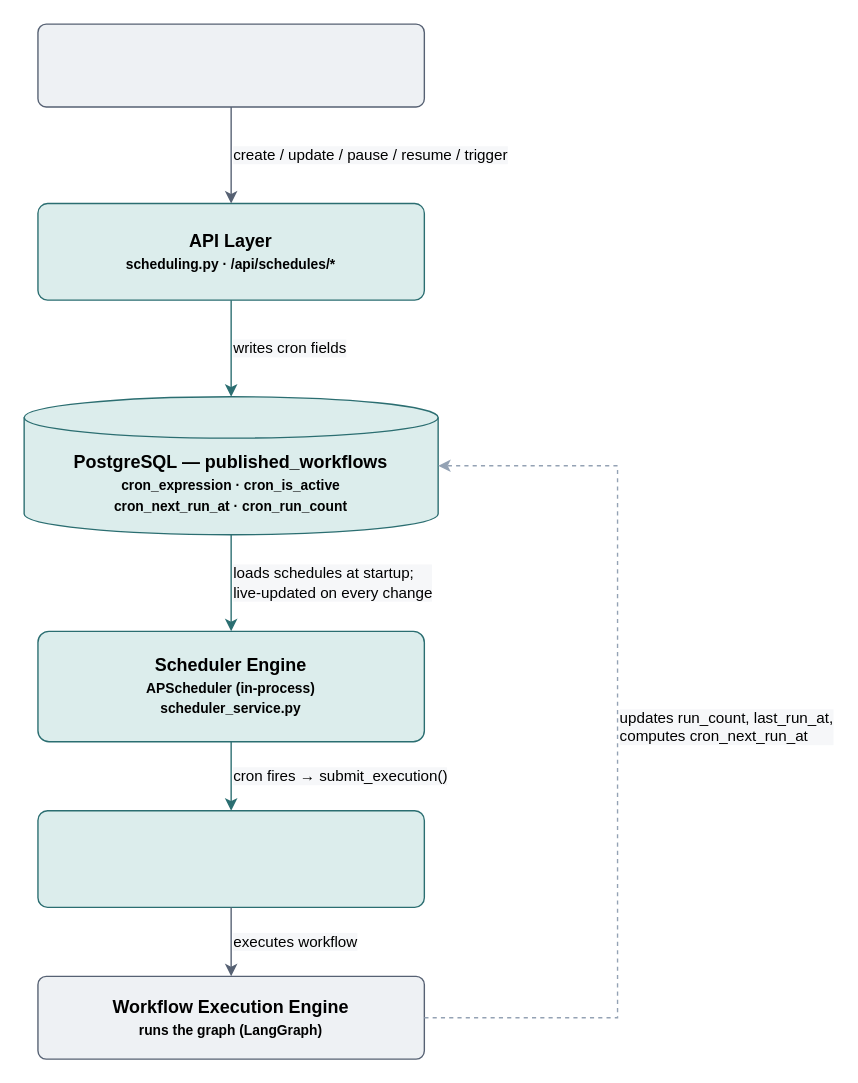
Some shapes in this 858 by 1083 pixel diagram are drawn without their labels. Here are the shapes that lost their labels. From the top down, the centre of each, then its label:
pixel 230 65: Schedule UI feature-flagged: SCHEDULING_ENABLED
pixel 230 858: Execution Manager ThreadPoolExecutor · 10 workers (shared)
